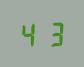four: (19, 20, 41, 47)
three: (42, 19, 64, 46)
